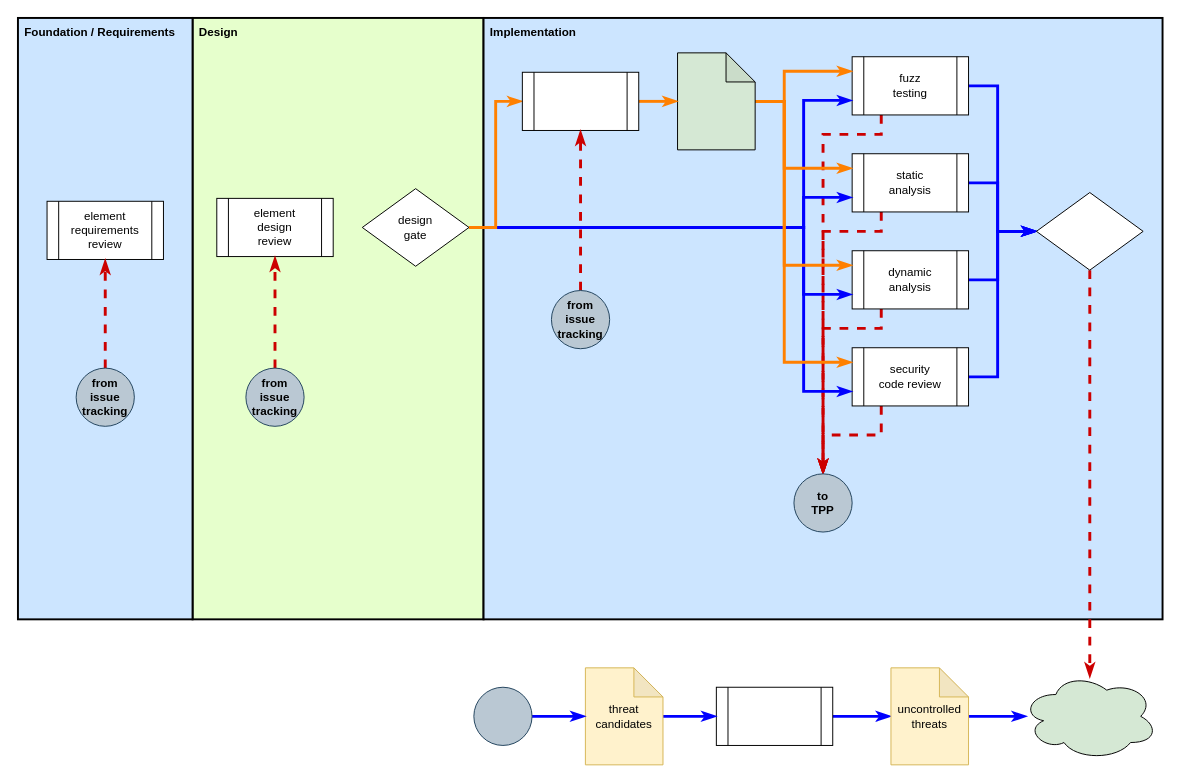
This 1180x782 diagram has some shape labels left out. Each missing label, with the centre of its shape:
element implementation: the point at 580,100
implementation gate: the point at 1089,231
implemented element: the point at 716,101
task / issue tracking system: the point at 1089,716
threat prioritization: the point at 774,715
TPP: the point at 502,715
